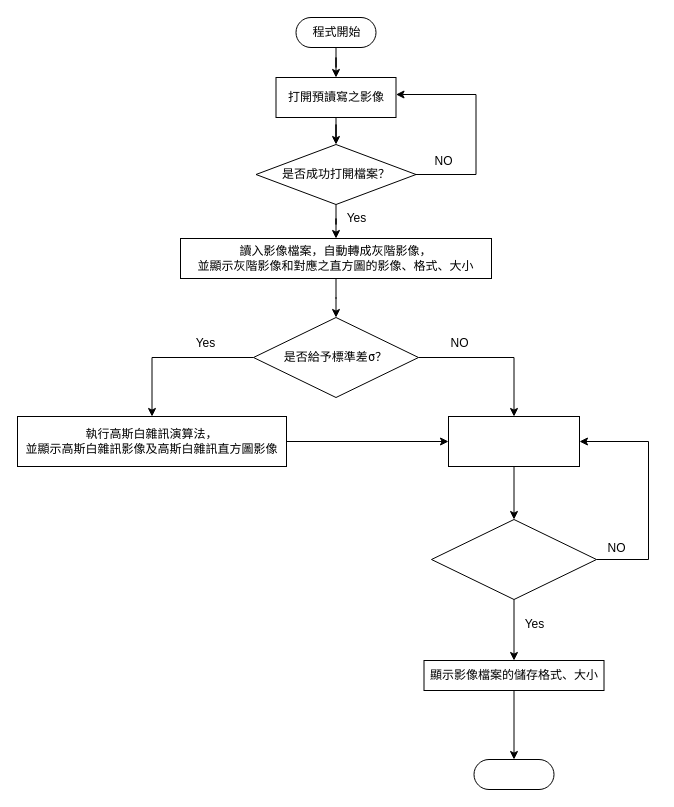
Some shapes in this 674 by 807 pixel diagram are drawn without their labels. Here are the shapes that lost their labels. From the top down, the centre of each, then its label:
At point (514, 441): "儲存直方圖影像".
At point (513, 559): "是否成功儲存影像檔案？".
At point (513, 774): "程式結束".
